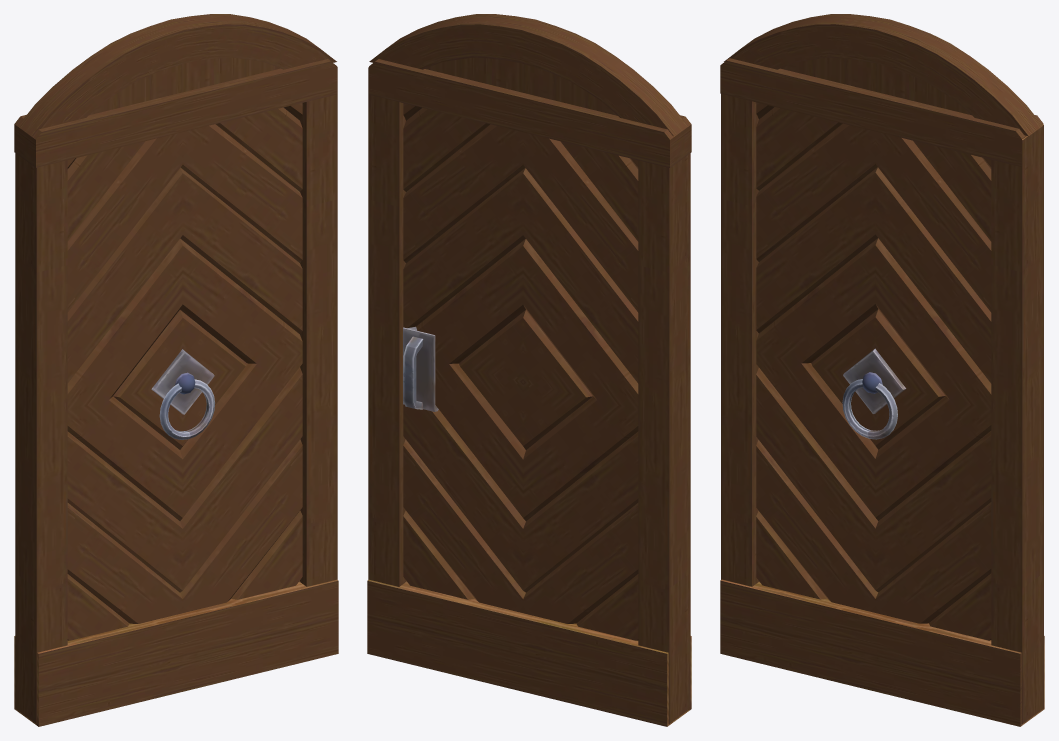
Rendered from Door_6_Round.glb.
The picture shows the model from 3 angles, left to right: view 1: azimuth 30°, elevation 25°; view 2: azimuth 150°, elevation 25°; view 3: azimuth 330°, elevation 25°; orthographic projection.
Parts seen in each view (by area): view 1: Door_6_Round; view 2: Door_6_Round; view 3: Door_6_Round.
Boxes of the visible parts, <box> form: Door_6_Round: <box>14,14,338,726</box>; Door_6_Round: <box>367,14,691,726</box>; Door_6_Round: <box>720,14,1044,726</box>.
Size of the model in its own units: 1.13 by 2.32 by 0.1995.
Materials: 2 (2 with a texture image).
